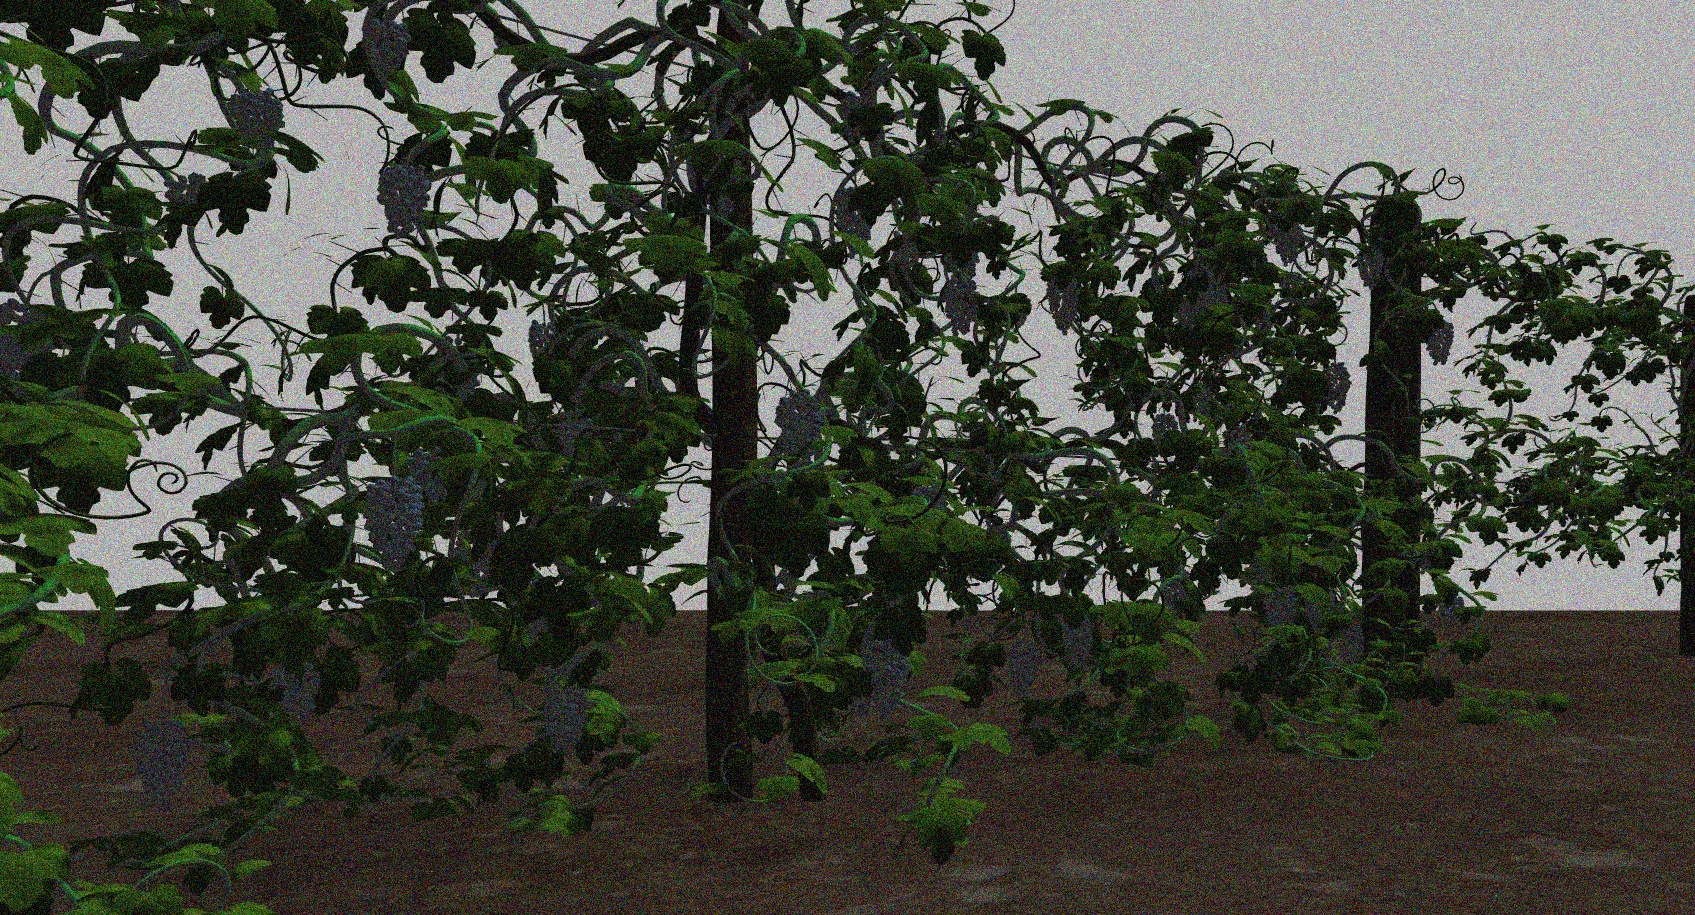grape: (125, 717, 197, 808), (359, 476, 429, 568), (375, 156, 436, 240), (537, 679, 595, 756), (862, 639, 912, 722), (229, 85, 288, 153), (267, 660, 324, 729), (775, 385, 823, 467), (360, 18, 413, 85), (831, 187, 878, 254), (1005, 637, 1045, 701), (1045, 270, 1080, 338), (943, 276, 978, 339), (1063, 614, 1094, 672), (1263, 584, 1299, 630), (1269, 220, 1304, 266), (1322, 363, 1351, 415), (1426, 317, 1455, 367), (1356, 245, 1386, 288), (1336, 627, 1365, 669), (1150, 415, 1179, 448), (1438, 594, 1466, 629)
